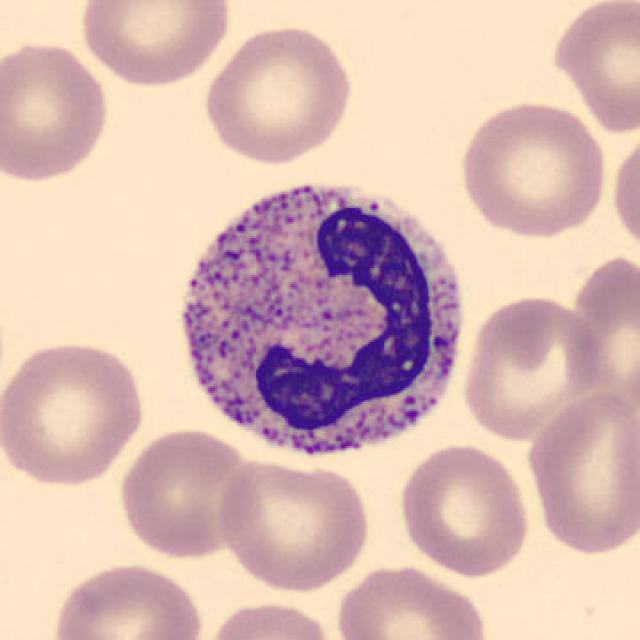Neutrophil: (171, 160, 484, 480)
RBC: (199, 19, 357, 166), (0, 335, 149, 490), (459, 291, 608, 442), (455, 97, 610, 240), (214, 457, 374, 594), (521, 386, 638, 559), (114, 425, 258, 562), (395, 439, 533, 578), (0, 37, 114, 187), (561, 252, 640, 434), (74, 0, 234, 88), (546, 0, 640, 138), (48, 559, 208, 640), (332, 562, 490, 640), (201, 597, 338, 640), (608, 127, 640, 261)
